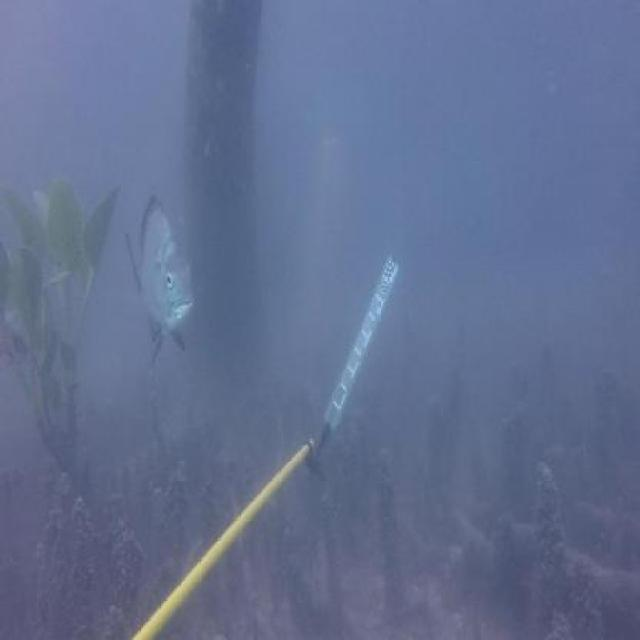acanthopagrus_palmaris: (124, 191, 193, 369)
